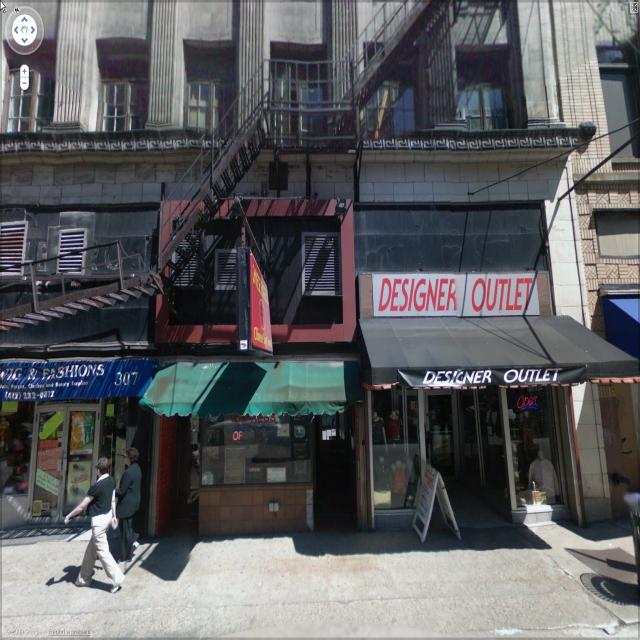b_1: (10, 8, 578, 526), (560, 4, 640, 490)
